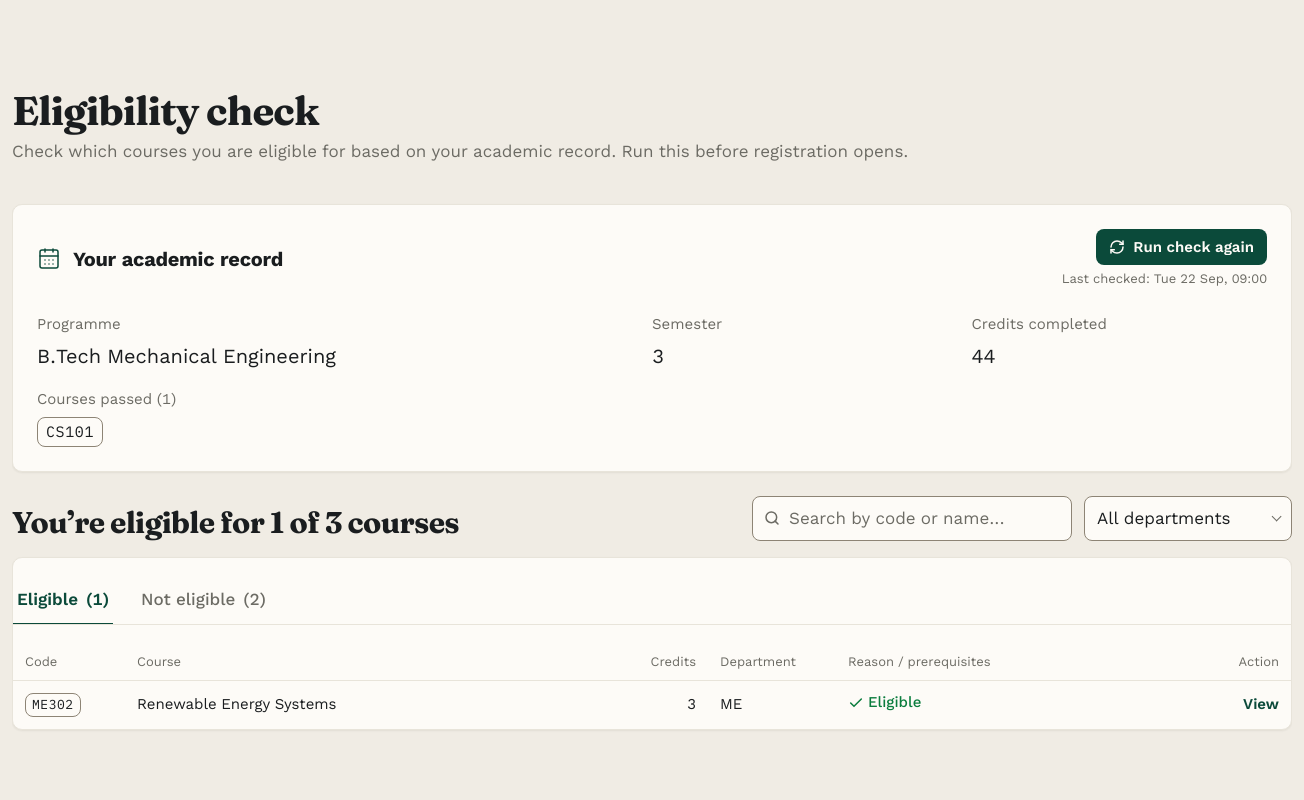
Scenario: EligibilityPage › filters by department
The image size is (1304, 800).
Expected: the text "Renewable Energy Systems" is shown, [125, 681, 628, 729]
Select "Computer Science and Engineering" in the dropdown named "Department". click: point(1188, 518)
box: [1084, 496, 1292, 540]
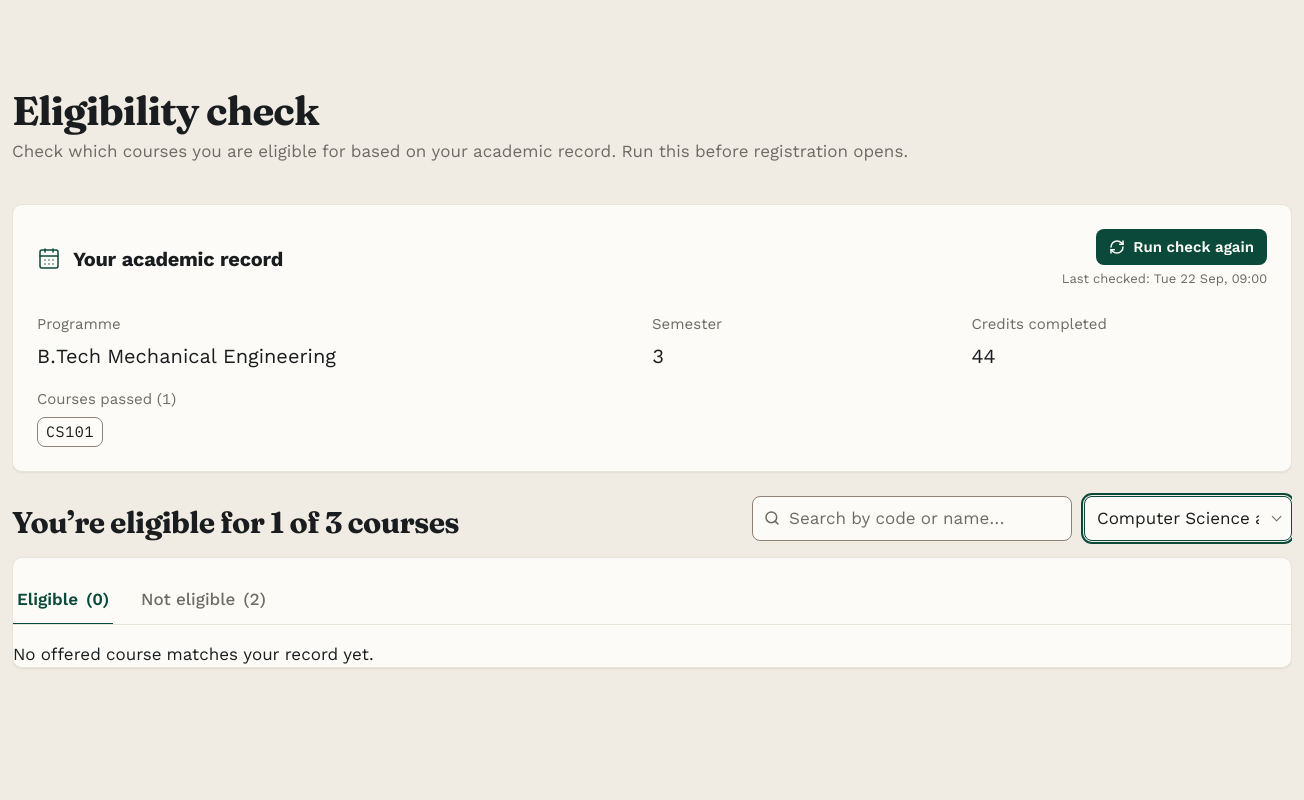
Now the text "Renewable Energy Systems" is gone
